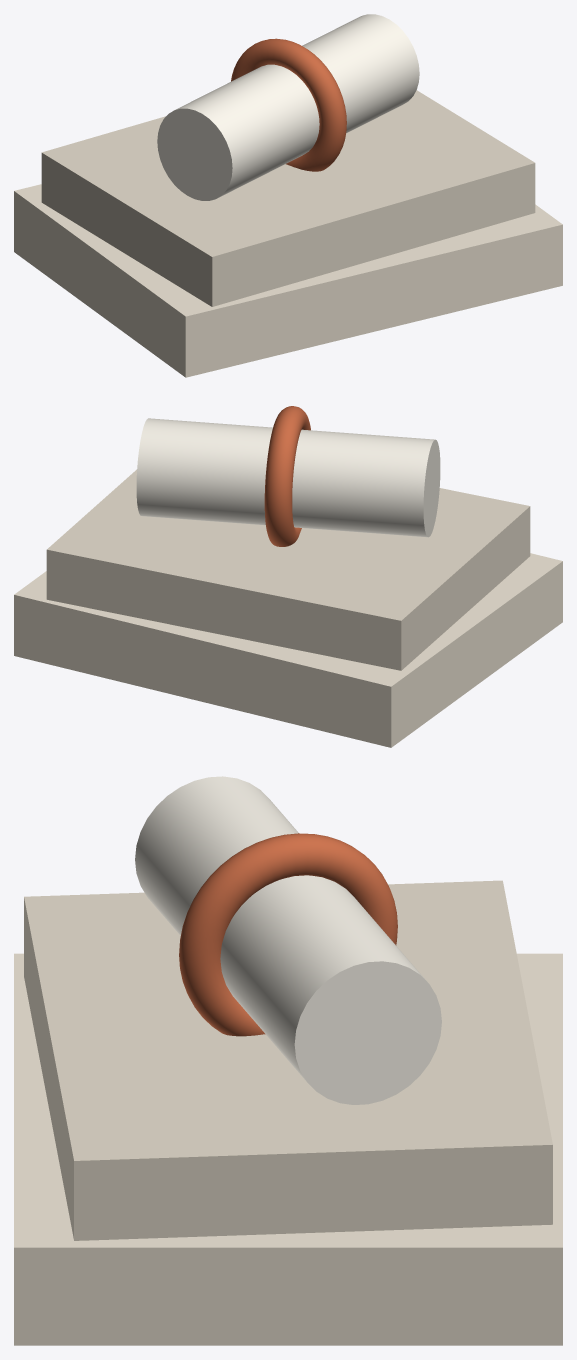
File: linen_tablecloth.glb
3 views of the same model, one above another, from view 1: azimuth 30°, elevation 25°; view 2: azimuth 150°, elevation 25°; view 3: azimuth 270°, elevation 25° (orthographic). The views are drawn at different scales.
Size of the model in its own units: 1.42 by 0.815 by 1.12.
